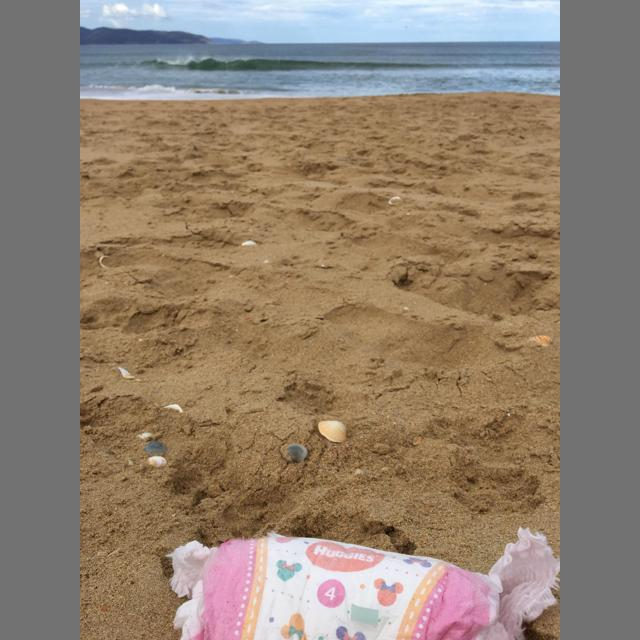litter: (166, 527, 560, 640)
